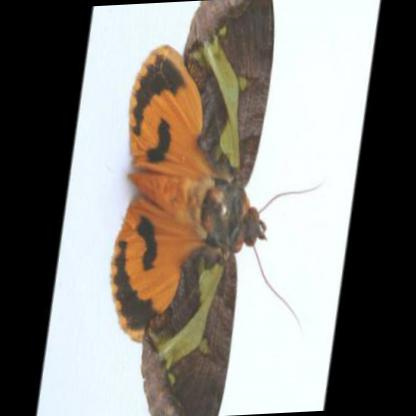fruit sucking moth: (108, 0, 273, 416)
